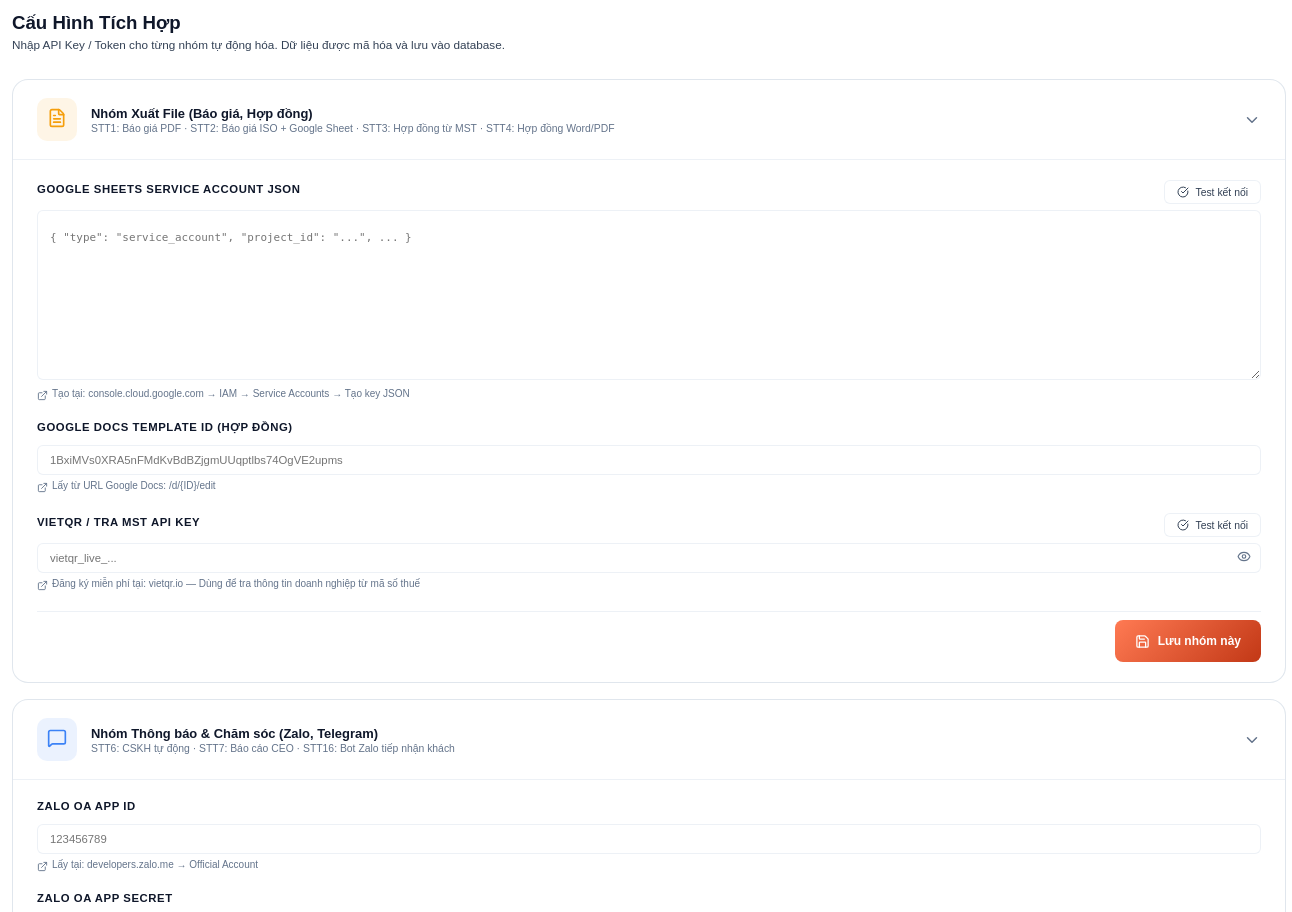
Test: Settings › shows a toast after saving a group
Click the button "Lưu nhóm này": (1188, 641) x1=1115 y1=620 x2=1261 y2=662
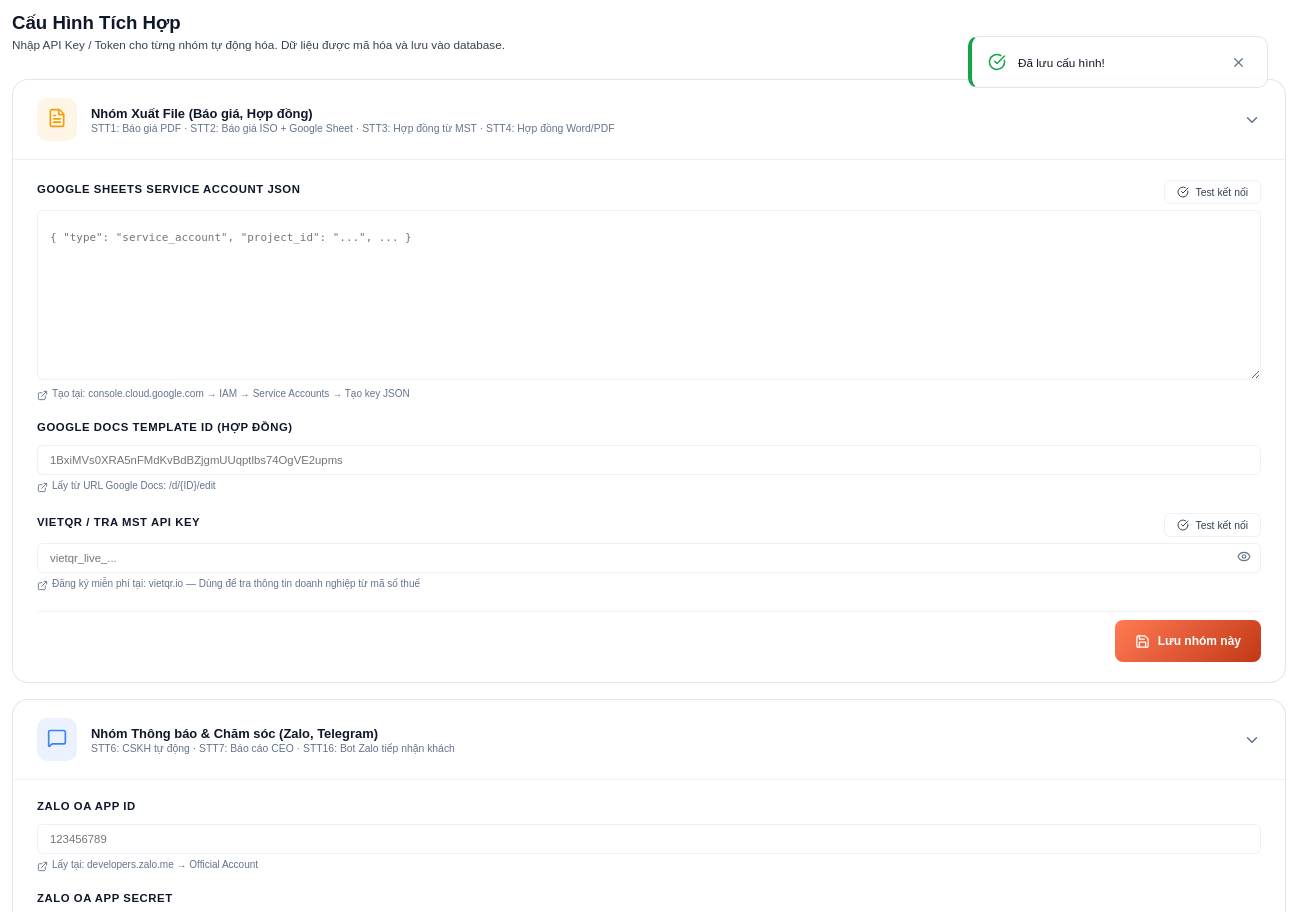
Expected: the text "Đã lưu cấu hình!" is shown, x1=1018 y1=56 x2=1105 y2=68
